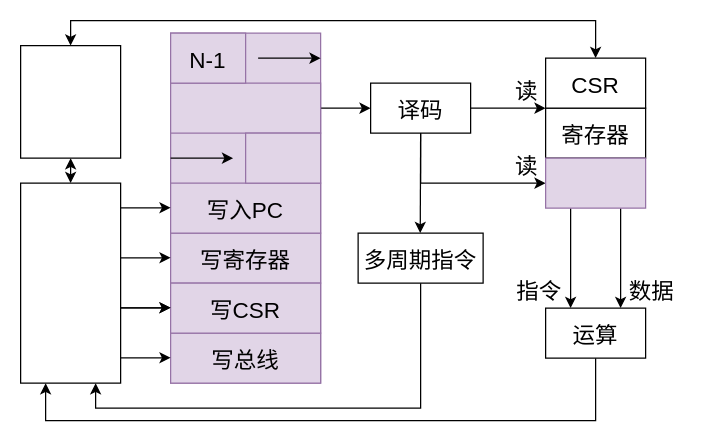
Some shapes in this 704 by 441 pixel diagram are drawn without their labels. The shapes that lost their labels are listed below. From the top down, each one's centre as x and y in pixels, then its label:
At point 70,101: "中断 控制器".
At point 245,107: "取出指令".
At point 282,157: "N+1".
At point 595,182: "总线".
At point 70,282: "阻塞控制".
